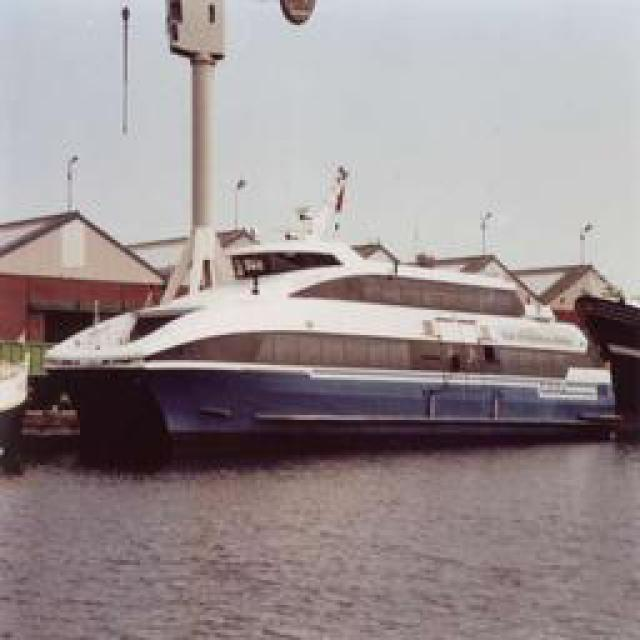Ship: (41, 246, 626, 464)
